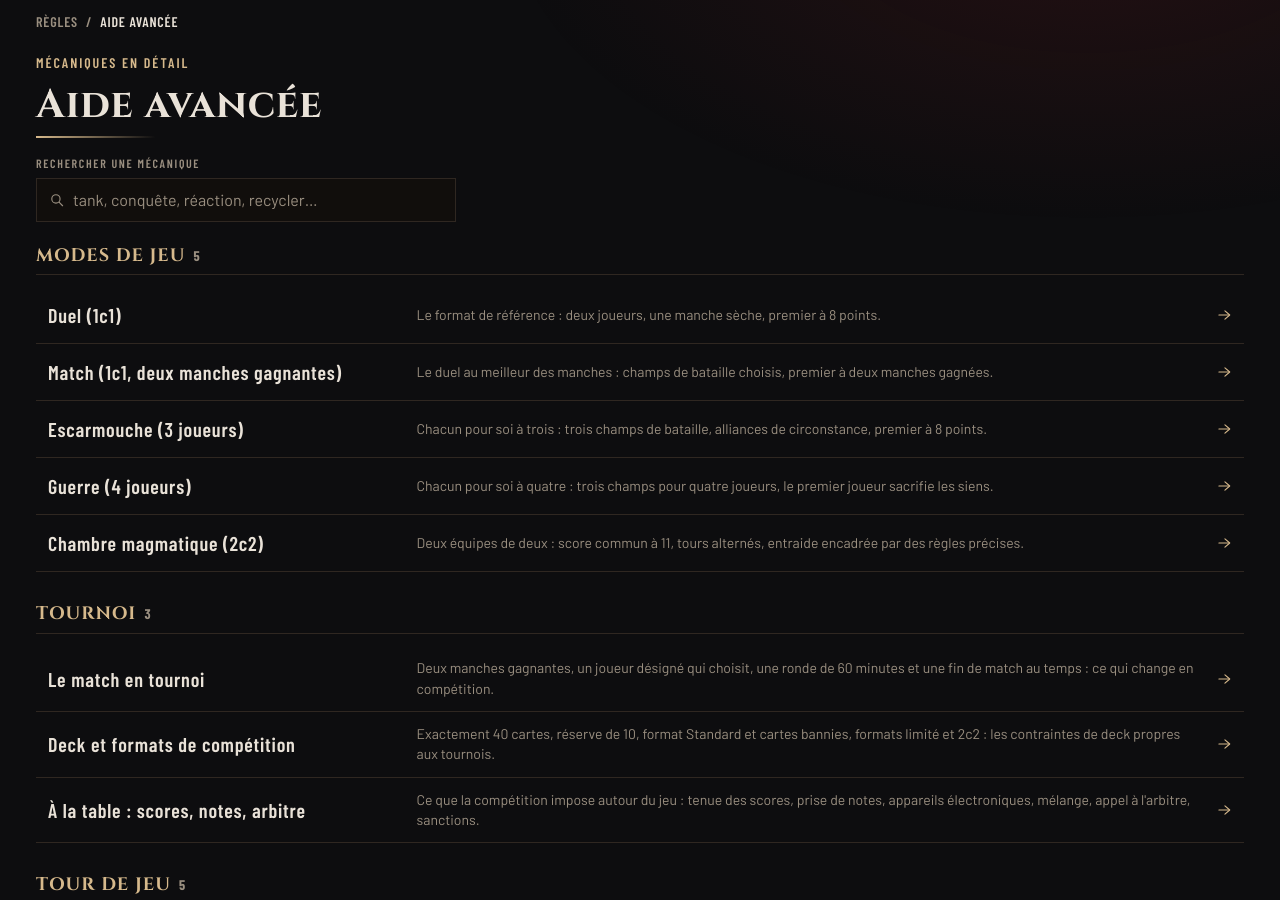
Test: AdvancedHelpView › recherche sans résultat : état vide avec lien vers le texte officiel
Type "zzzzqqqq" into the search field labelled "Rechercher une mécanique" at (258, 200), box [73, 187, 443, 212]
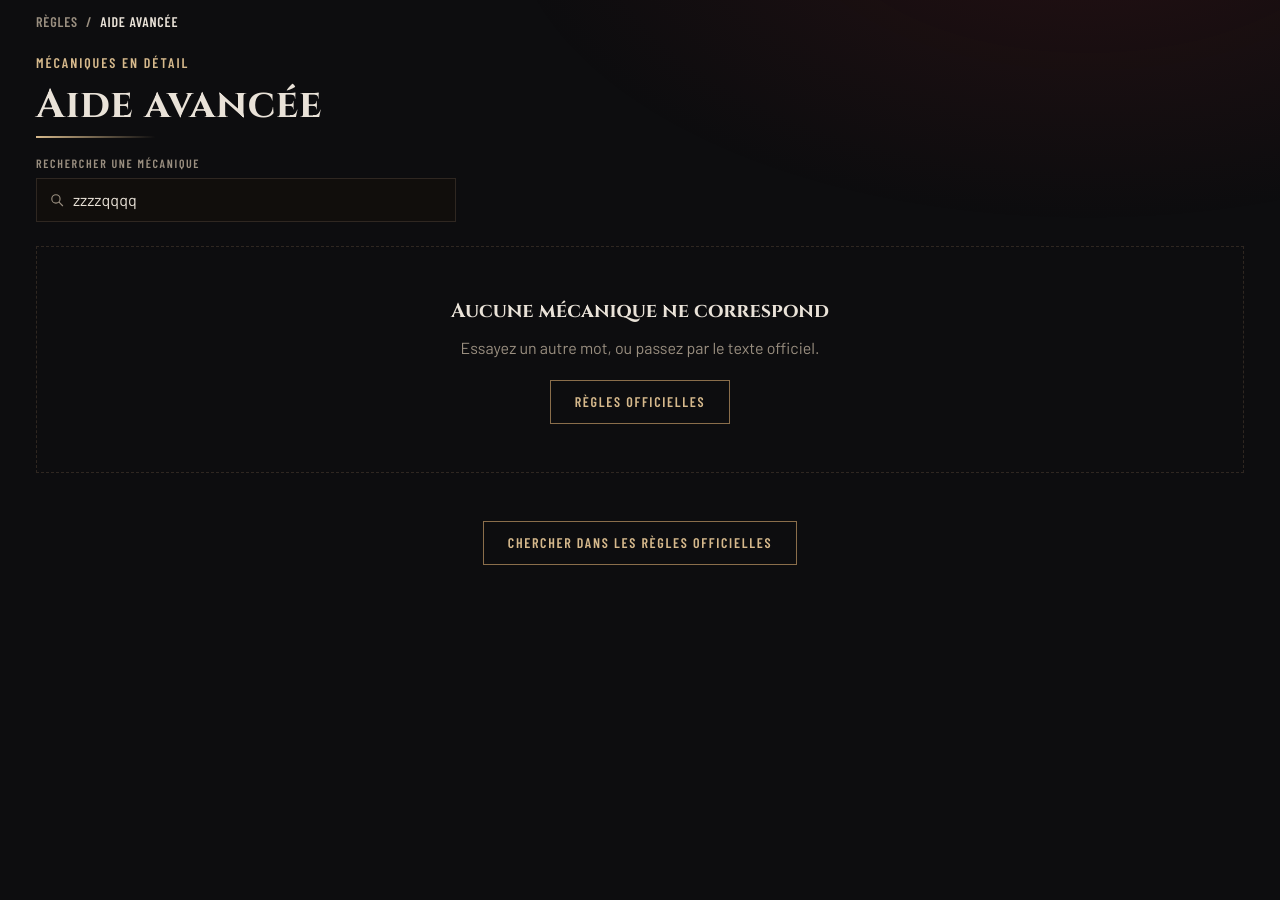
Expected: no links with class "aide-row" are shown
Expected: the message with class "rift-empty" shows "Aucune mécanique ne correspond", [451, 297, 829, 324]
